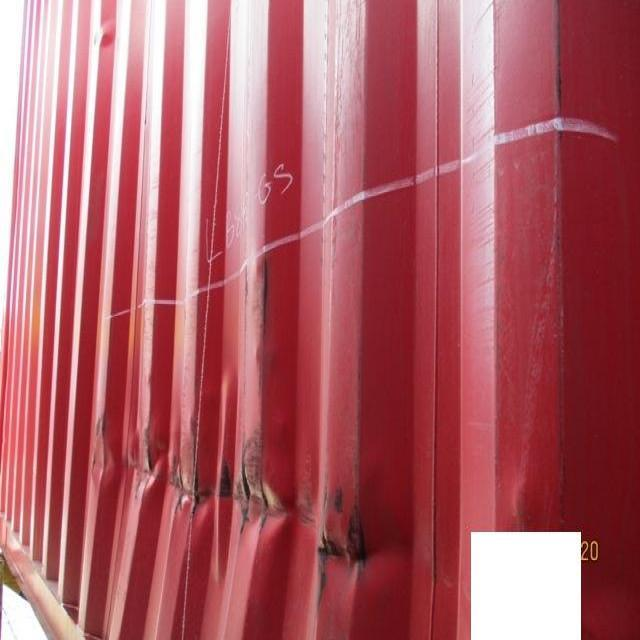Dent: (67, 372, 434, 633)
